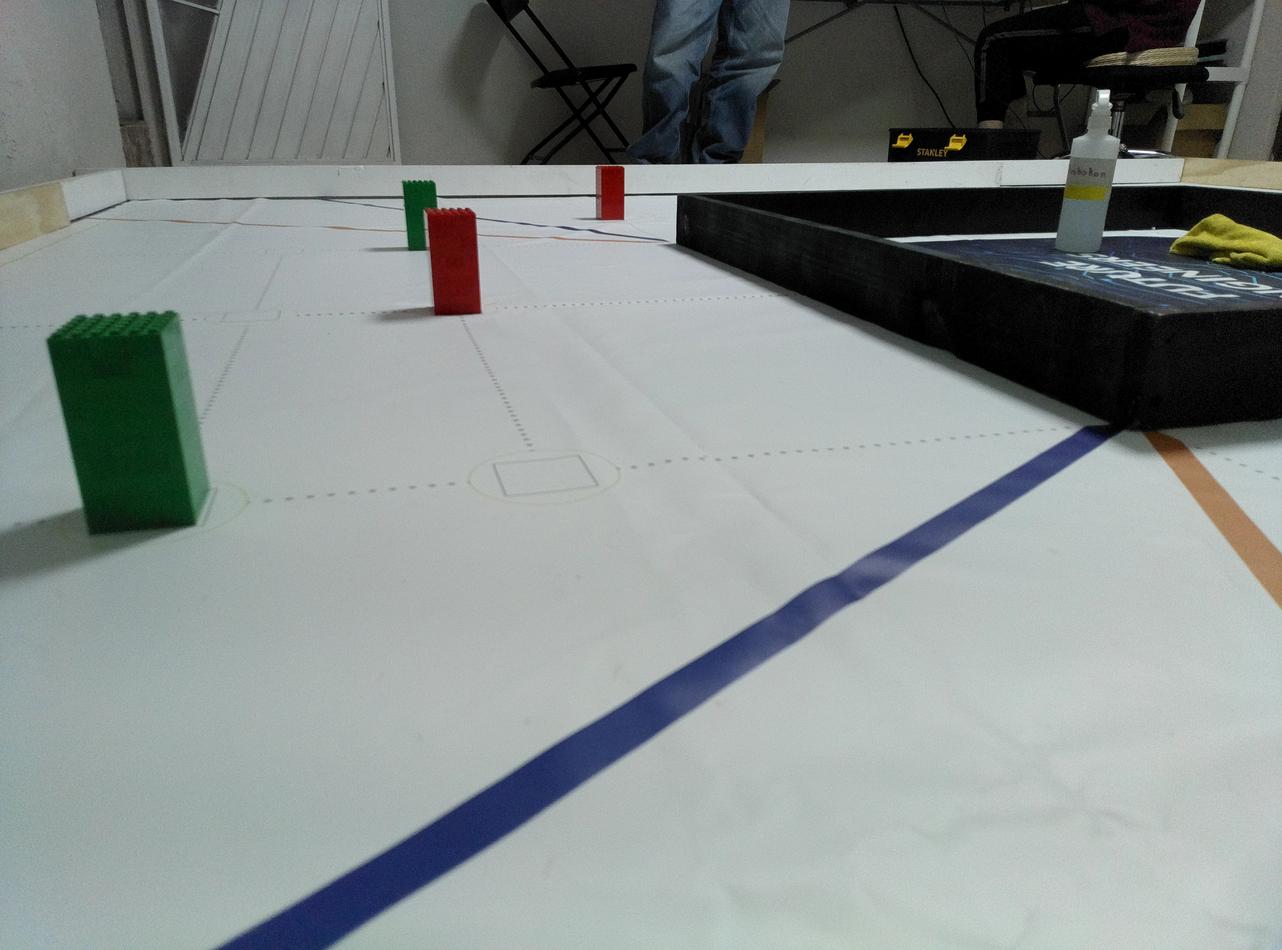greenbox: (42, 310, 215, 538), (400, 179, 439, 251)
redbox: (421, 207, 484, 318), (594, 165, 626, 221)
